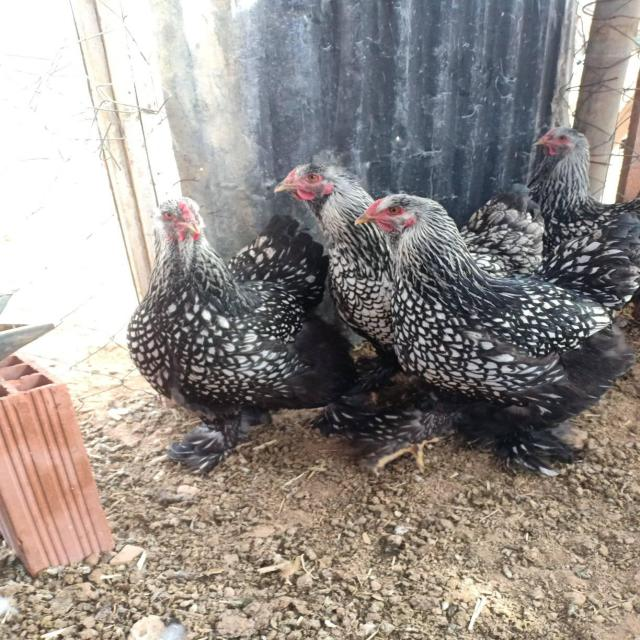Healthy: (353, 175, 634, 456), (96, 175, 338, 417)
